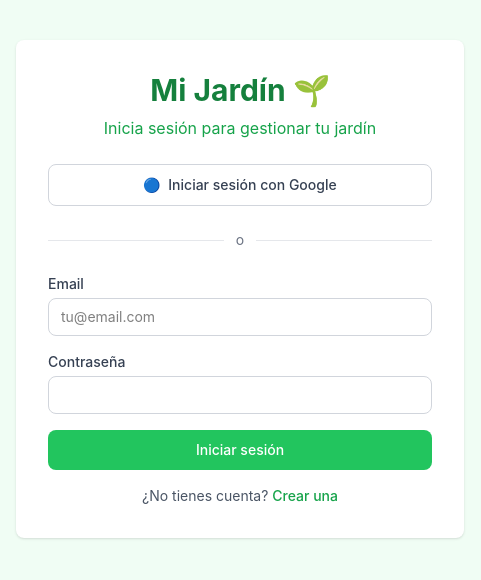
Test: Login › shows validation error for empty email
Click the button "Iniciar sesión" at [240, 450], box [48,430,432,470]
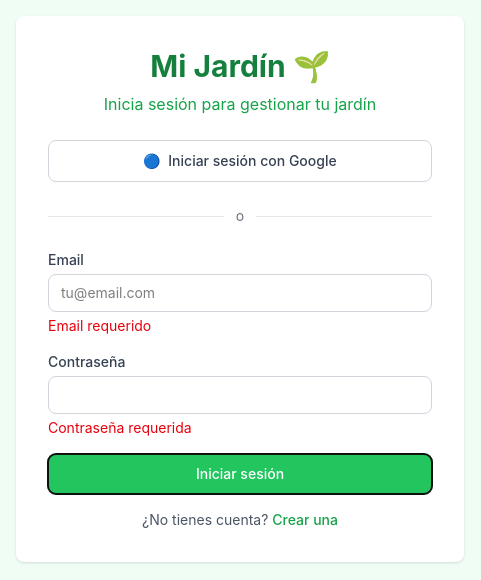
Result: the text "Email requerido" is shown at [48,317,151,334]
